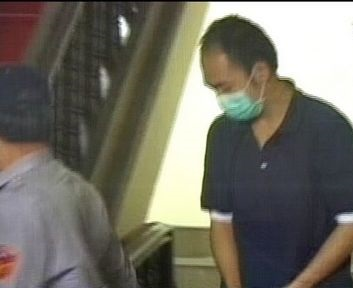face_mask: (199, 52, 261, 123)
